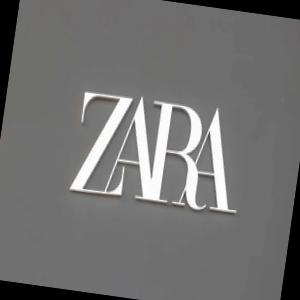zara: (63, 85, 255, 226)
